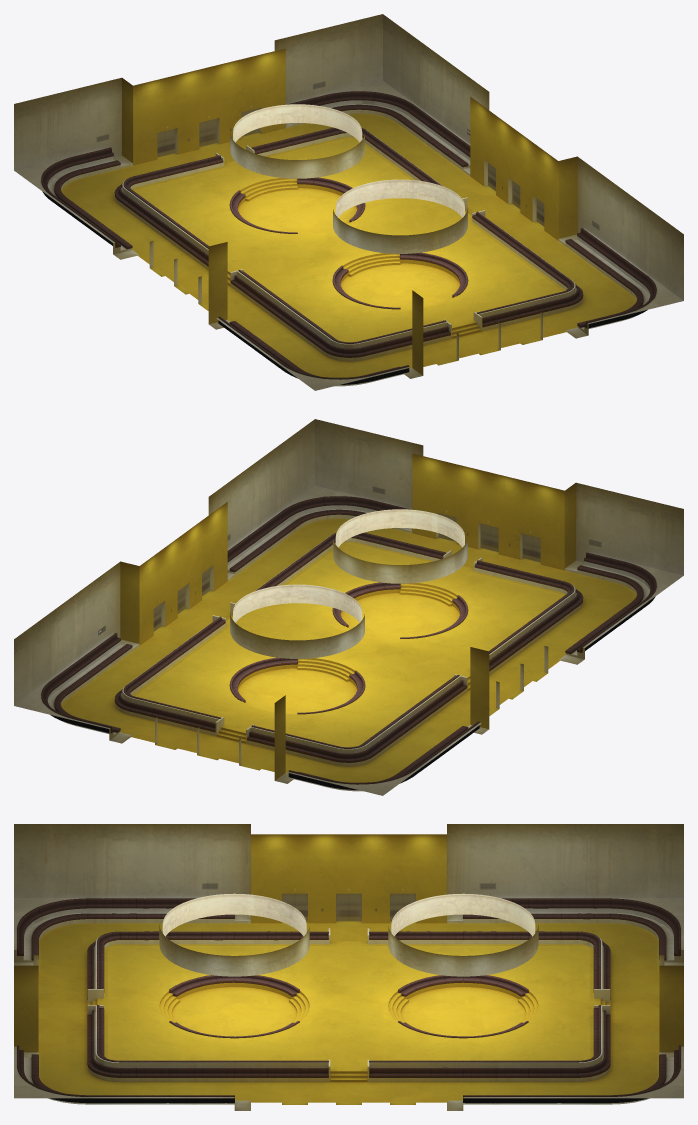
File: liminal.glb
3 views of the same model, one above another, from view 1: azimuth 30°, elevation 25°; view 2: azimuth 150°, elevation 25°; view 3: azimuth 270°, elevation 25° (orthographic). The views are drawn at different scales.
Visible parts, largest first — view 1: Box001, Object001_14 - Default_0 (×2); view 2: Box001, Object001_14 - Default_0 (×2); view 3: Box001, Object001_14 - Default_0 (×2).
Part boxes in pixels (bbox=[...]): Box001: bbox=[14, 14, 683, 390]; Object001_14 - Default_0 (×2): bbox=[41, 91, 656, 384]; Box001: bbox=[14, 419, 683, 795]; Object001_14 - Default_0 (×2): bbox=[41, 496, 656, 789]; Box001: bbox=[14, 824, 683, 1110]; Object001_14 - Default_0 (×2): bbox=[17, 898, 680, 1103].
Bounding box in the file's own units: 29 × 6.15 × 41.
3 materials, 2 textured.
